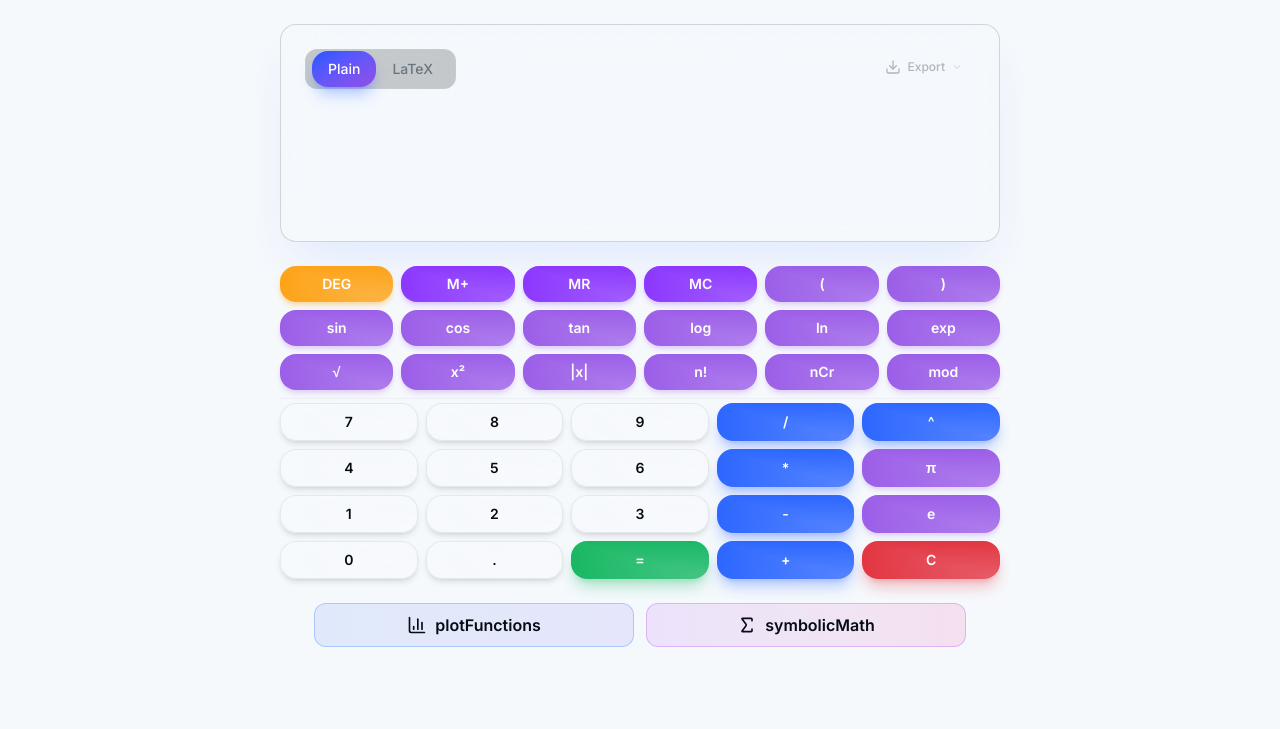
Calculator Component › handles Enter key for evaluation
# Type expression and press Enter - use button clicks for reliable input
Step 1. Click the cell "1" → (349,514), box [280, 495, 418, 533]
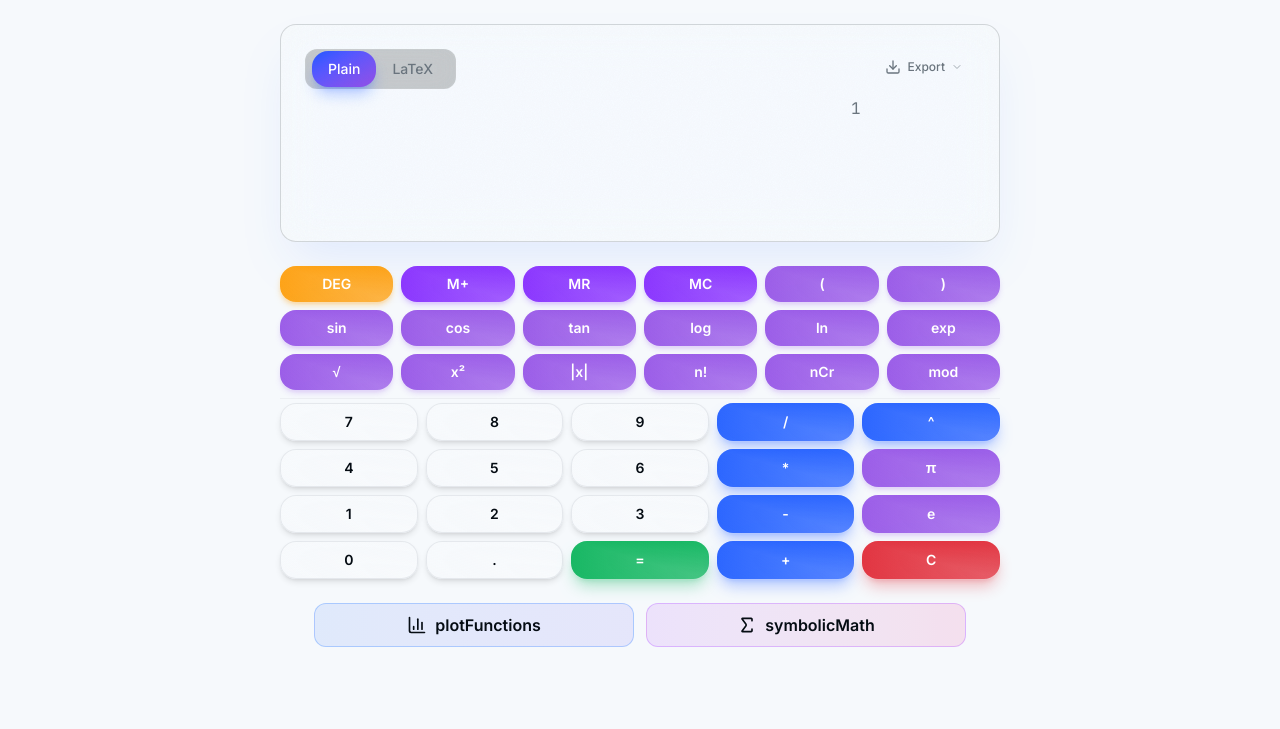
Step 2. Click the cell "0" → (349,560), box [280, 541, 418, 579]
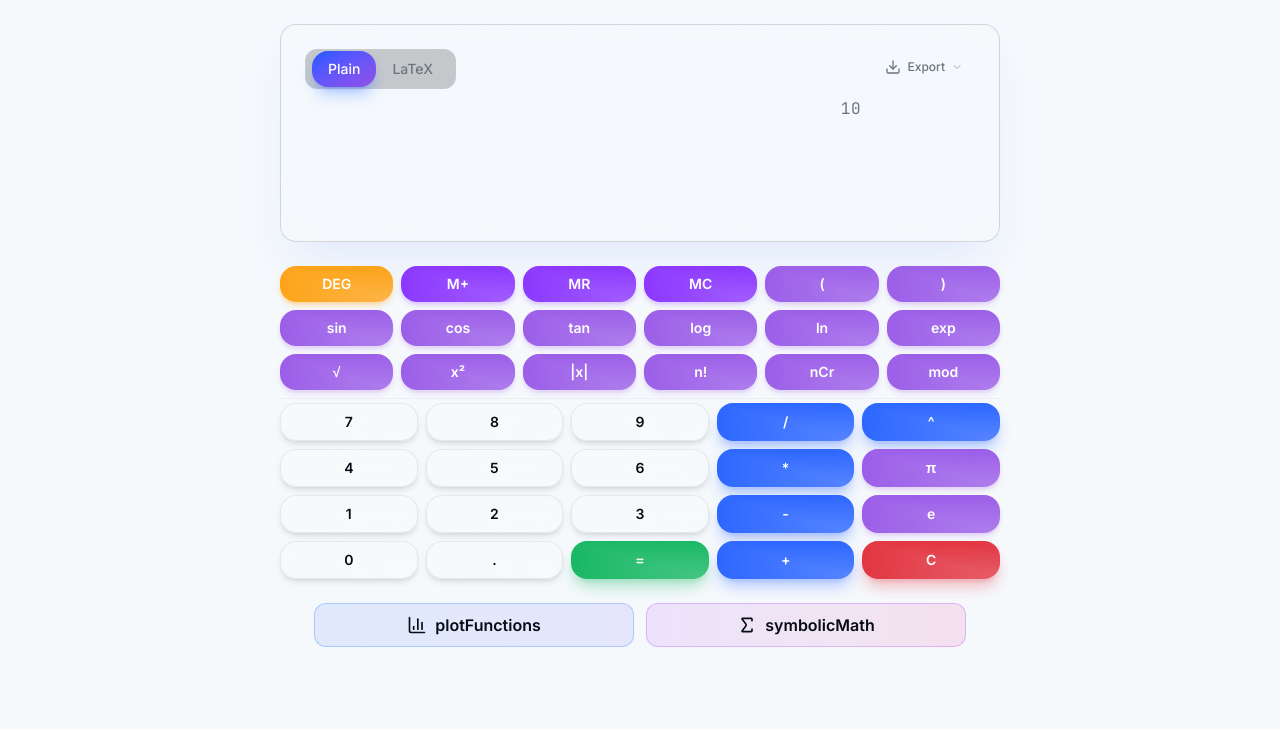
Step 3. Click the cell named "multiply" → (786,468), box [717, 449, 854, 487]
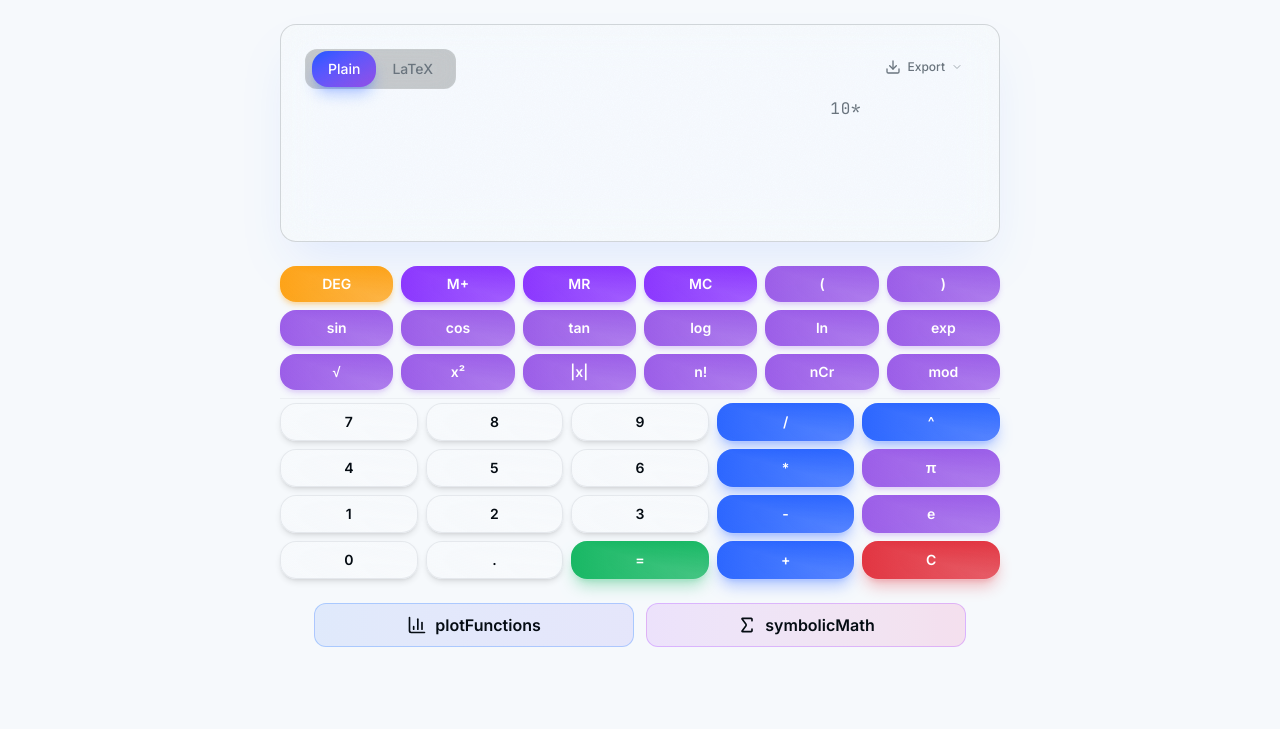
Step 4. Click the cell "5" → (494,468), box [426, 449, 563, 487]
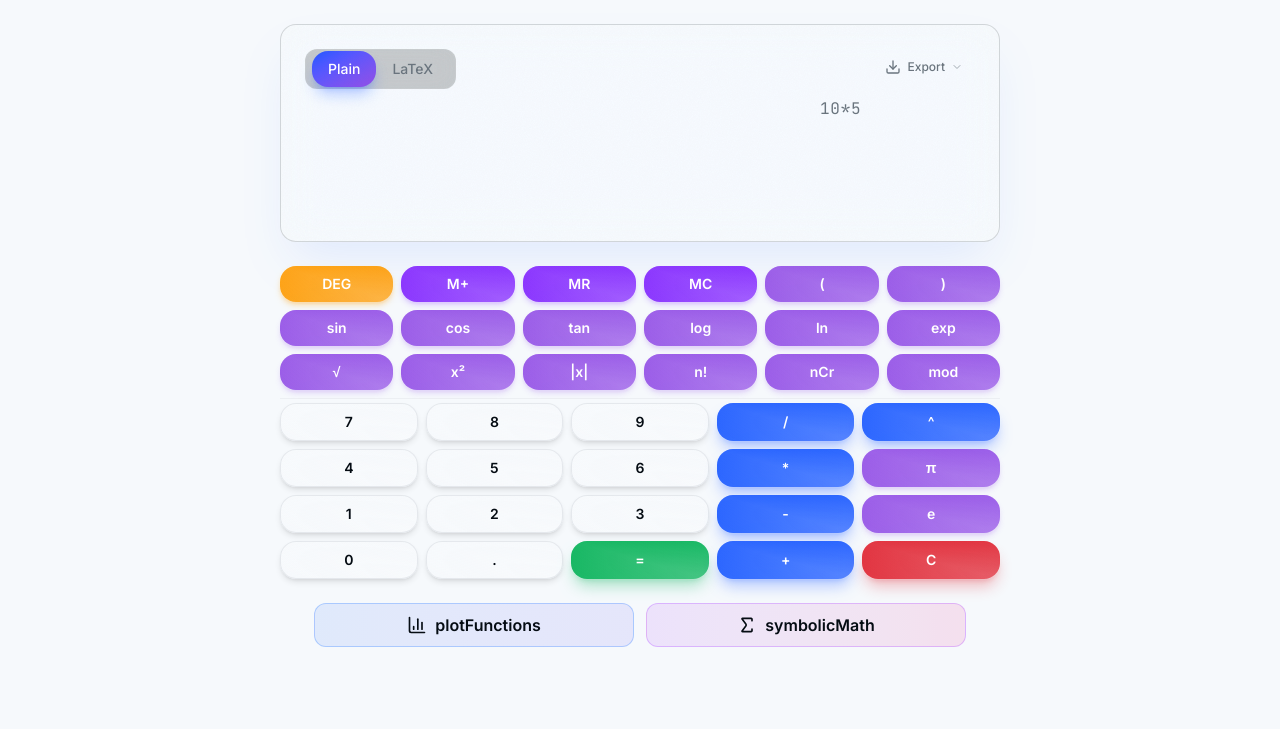
Step 5. Press Enter
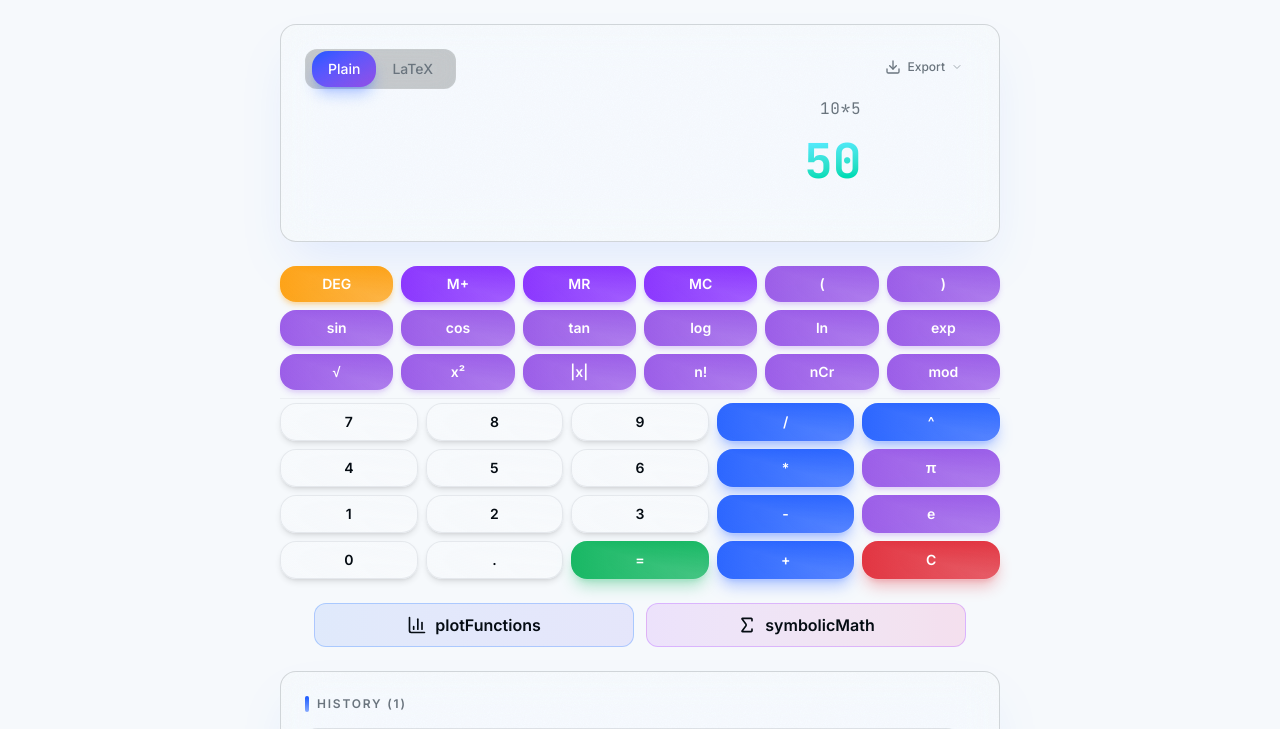
Expected: the message named "result:" reads "50", [804, 129, 862, 192]
